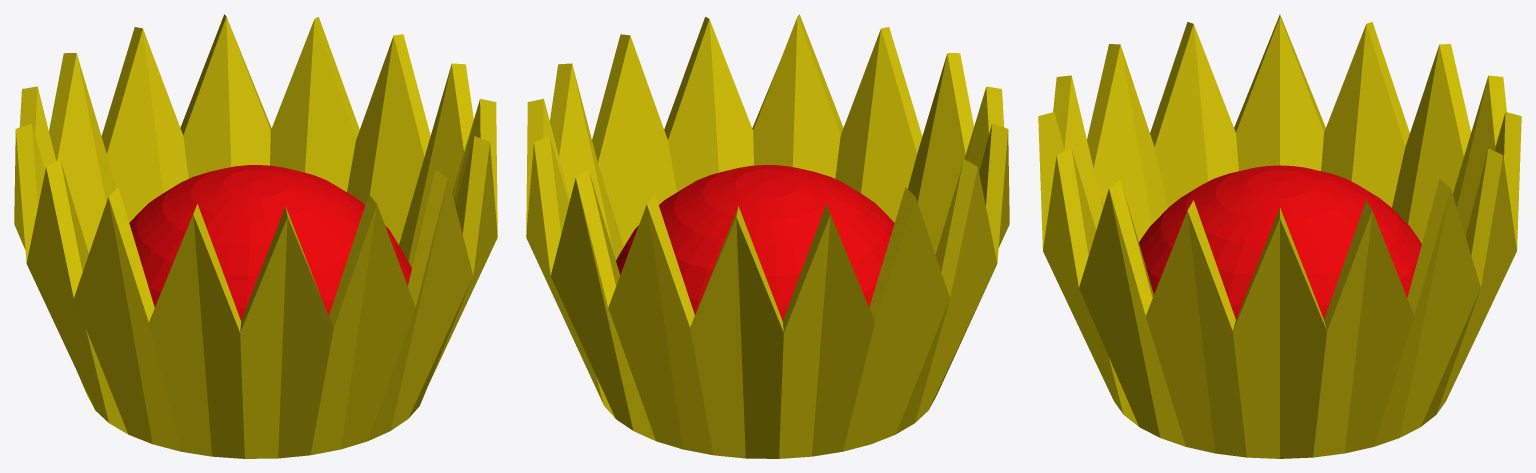
Rendered from crown.fbx.
3 renders of one model, left to right at view 1: azimuth 30°, elevation 25°; view 2: azimuth 150°, elevation 25°; view 3: azimuth 270°, elevation 25°, orthographic.
Visible parts, largest first — view 1: Cylinder, Sphere; view 2: Cylinder, Sphere; view 3: Cylinder, Sphere.
Boxes of the visible parts, x1,y1,x2,y2 form: Cylinder: [14, 14, 497, 458]; Sphere: [129, 165, 411, 320]; Cylinder: [526, 14, 1009, 458]; Sphere: [616, 165, 894, 320]; Cylinder: [1038, 14, 1521, 458]; Sphere: [1139, 165, 1421, 319].
Bounding box in the file's own units: 286 × 180 × 286.
